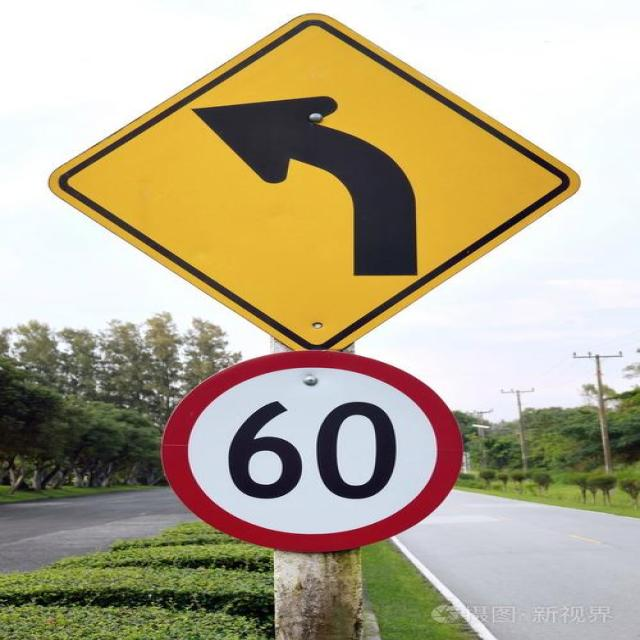speed limit 60: (162, 351, 465, 554)
